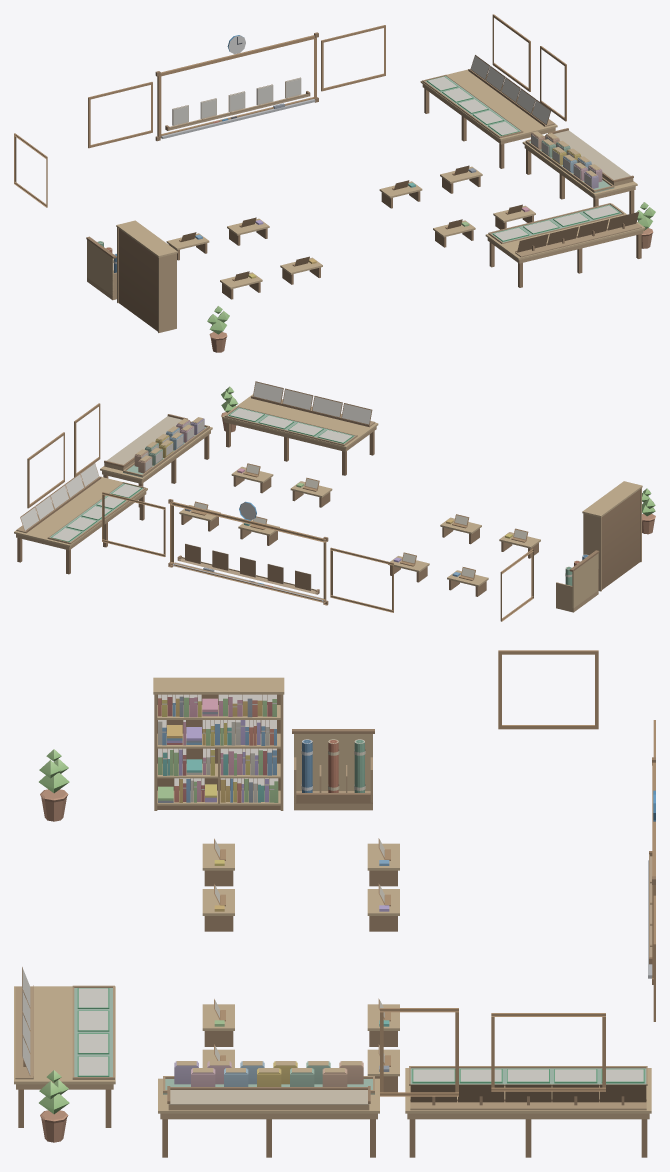
Rendered from pi_interior_props.glb.
The picture shows the model from 3 angles, top to bottom: view 1: azimuth 30°, elevation 25°; view 2: azimuth 150°, elevation 25°; view 3: azimuth 270°, elevation 25°; orthographic projection. The views are drawn at different scales.
Visible parts, largest first — view 1: rak_buku, lalu_bingkai_papan, meja_blok_rukun, meja_kad_hadis, lalu_doa_rak, meja_kad_doa, lalu_kad_rak, rak_sejadah, lalu_doa_dulang, lalu_kad_dulang, pasu_2, meja_rendah_3 (+9 smaller); view 2: lalu_bingkai_papan, rak_buku, meja_kad_doa, meja_kad_hadis, meja_blok_rukun, lalu_doa_rak, rak_sejadah, lalu_kad_rak, lalu_doa_dulang, lalu_kad_dulang, meja_rendah_7, meja_rendah_8 (+9 smaller); view 3: rak_buku, meja_blok_rukun, lalu_kad_rak, lalu_bingkai_papan, meja_kad_doa, rak_sejadah, meja_kad_hadis, lalu_doa_rak, lalu_doa_dulang, lalu_kad_dulang, pasu_2, pasu_1 (+9 smaller).
Part boxes in pixels (x1,y1,x2,y2): rak_buku: [116, 220, 177, 332]; lalu_bingkai_papan: [14, 14, 566, 207]; meja_blok_rukun: [522, 128, 637, 213]; meja_kad_hadis: [420, 69, 557, 168]; lalu_doa_rak: [515, 212, 641, 257]; meja_kad_doa: [485, 203, 645, 287]; lalu_kad_rak: [468, 55, 555, 126]; rak_sejadah: [86, 236, 116, 300]; lalu_doa_dulang: [488, 203, 623, 243]; lalu_kad_dulang: [422, 74, 523, 138]; pasu_2: [207, 306, 229, 352]; meja_rendah_3: [379, 180, 422, 208]; lalu_bingkai_papan: [27, 403, 533, 621]; rak_buku: [582, 481, 642, 591]; meja_kad_doa: [222, 394, 378, 475]; meja_kad_hadis: [14, 476, 147, 574]; meja_blok_rukun: [100, 414, 212, 507]; lalu_doa_rak: [251, 381, 375, 427]; rak_sejadah: [556, 550, 599, 612]; lalu_kad_rak: [16, 462, 101, 533]; lalu_doa_dulang: [224, 406, 357, 445]; lalu_kad_dulang: [47, 482, 146, 544]; meja_rendah_7: [290, 477, 332, 507]; meja_rendah_8: [231, 463, 273, 493]; rak_buku: [153, 677, 284, 810]; meja_blok_rukun: [158, 1076, 379, 1157]; lalu_kad_rak: [410, 1084, 646, 1110]; lalu_bingkai_papan: [380, 650, 655, 1096]; meja_kad_doa: [14, 986, 115, 1127]; rak_sejadah: [292, 729, 374, 810]; meja_kad_hadis: [405, 1068, 651, 1157]; lalu_doa_rak: [15, 967, 33, 1079]; lalu_doa_dulang: [72, 985, 114, 1079]; lalu_kad_dulang: [409, 1066, 647, 1085]; pasu_2: [39, 749, 69, 821]; pasu_1: [39, 1070, 69, 1142].
Bounding box in the file's own units: 12 × 2.86 × 8.96.
